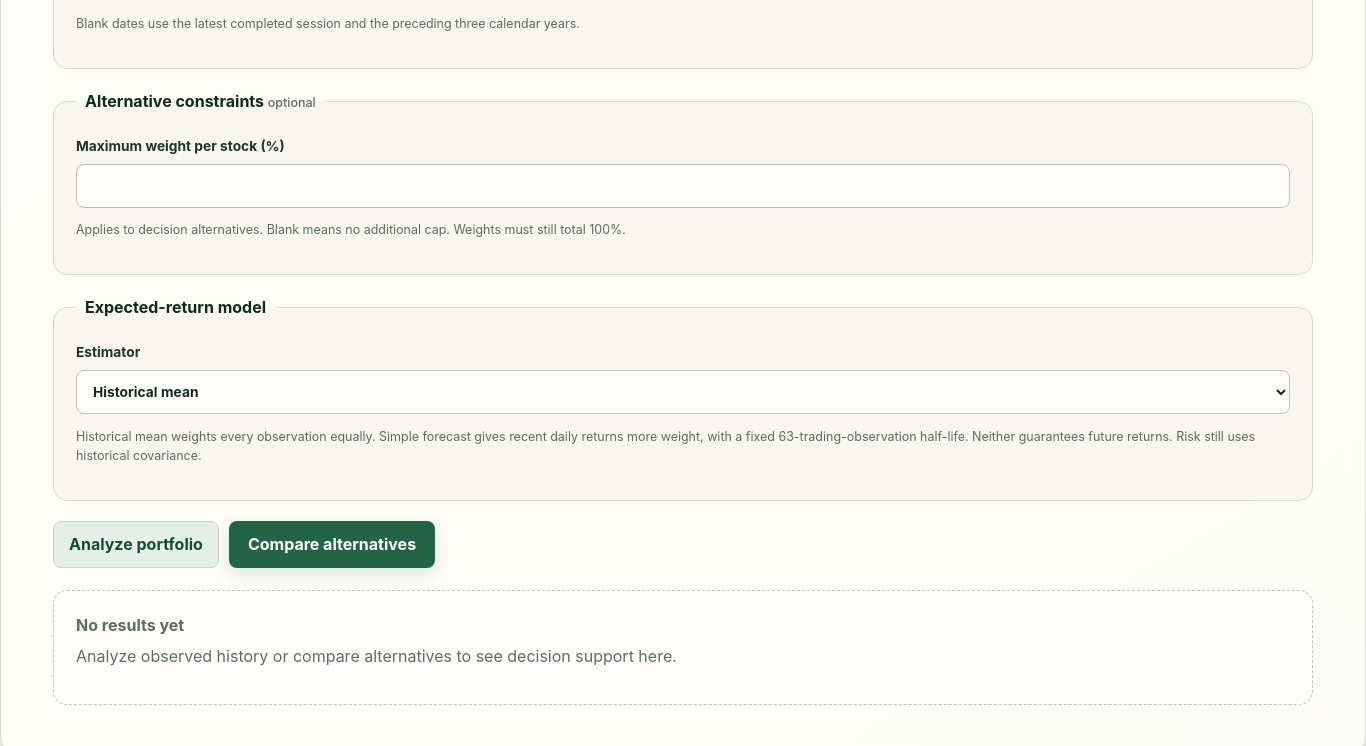
it: retains old provenance while stale and recalculates only on submission
(page scrolled)
Expected: the dropdown labelled "Estimator" shows "Historical mean", [76,370,1290,414]
Step 1. Click the button "Compare alternatives" → (332, 544), box [229,521,435,568]
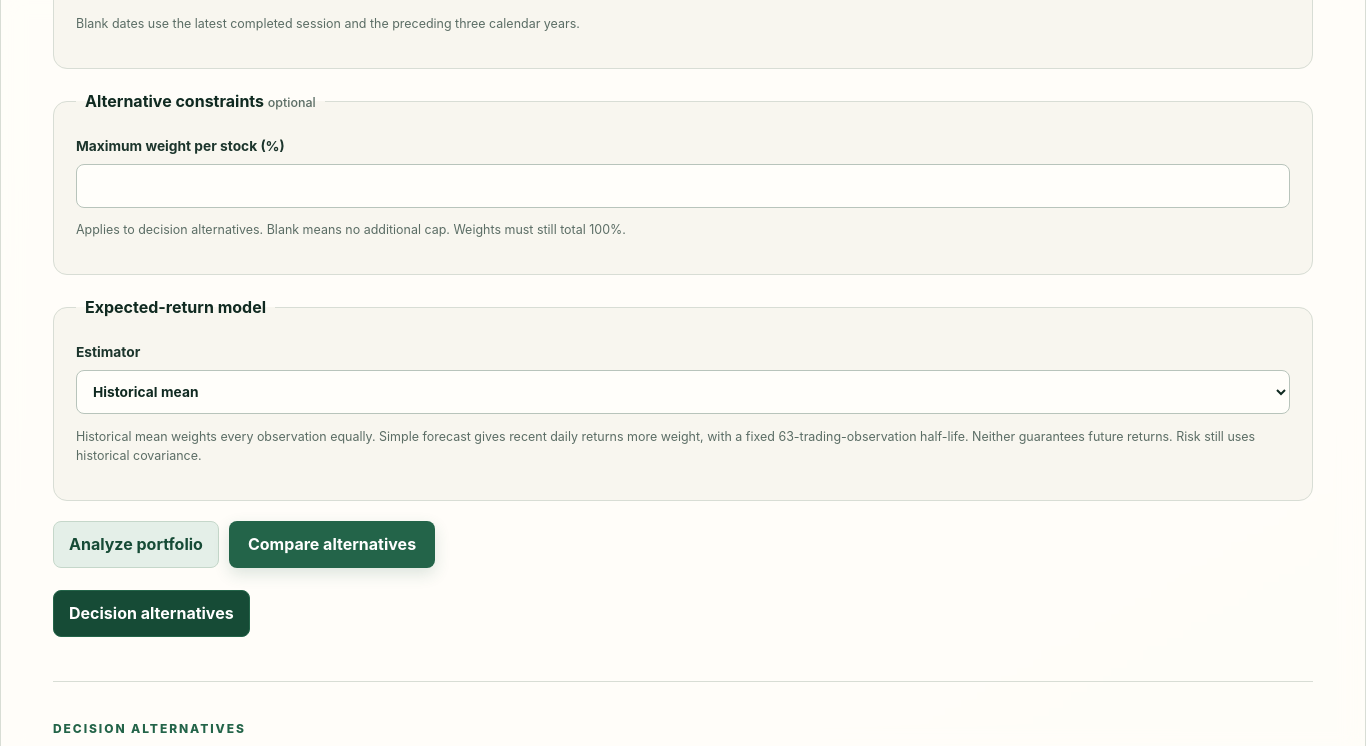
Step 2. Select "Simple forecast (recent returns weighted more)" in the dropdown labelled "Estimator" → (683, 392), box [76,370,1290,414]
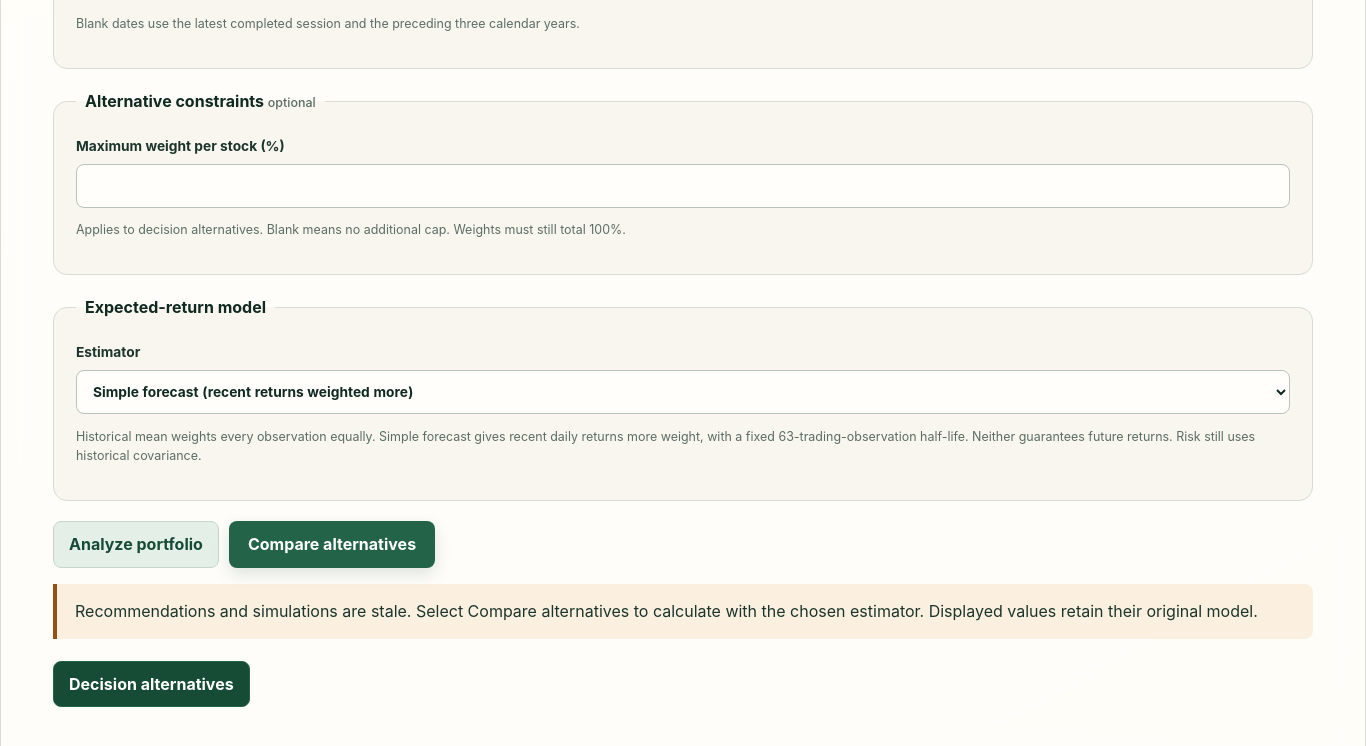
Expected: the text "Recommendations and simulations are stale" is shown, [75,601,1258,621]
Step 3. Click the button "Compare alternatives" → (332, 544), box [229,521,435,568]
(page scrolled)
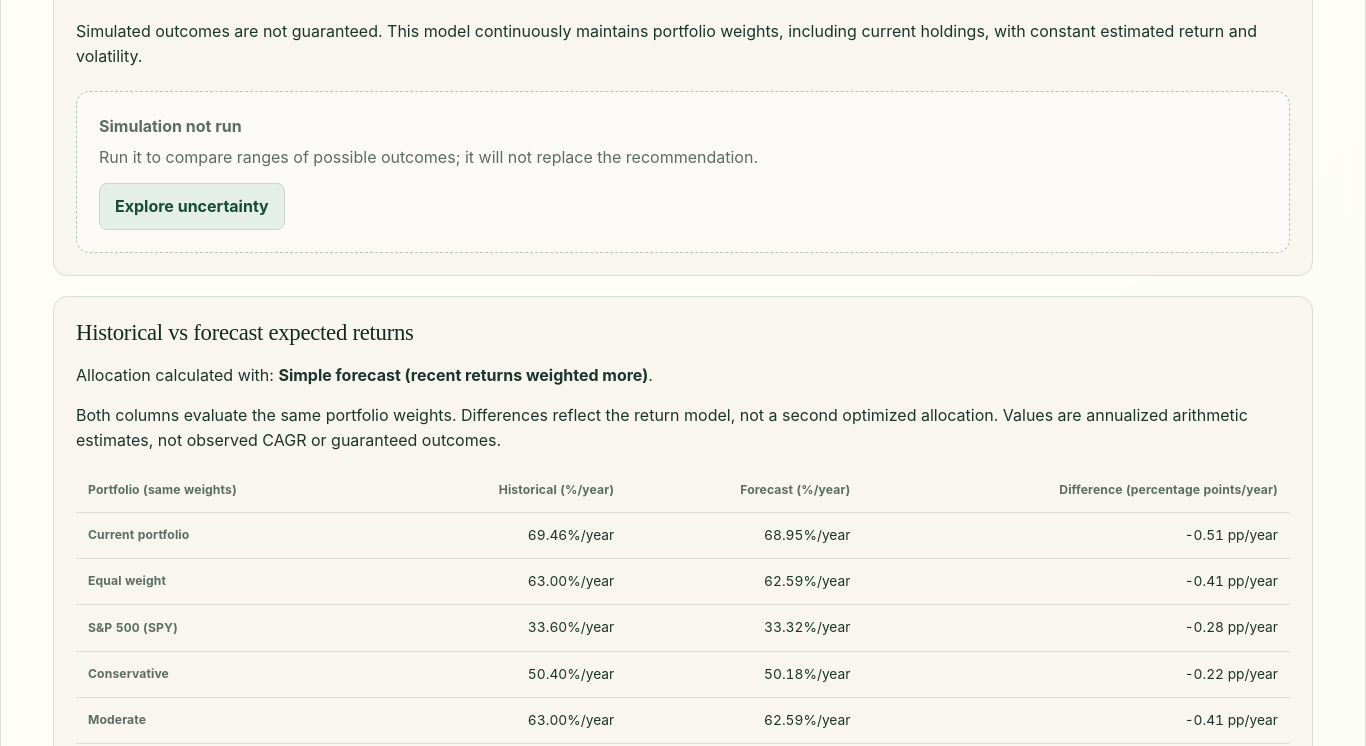
Expected: the text "Allocation calculated with" shows "Simple forecast", [278,364,648,384]
Expected: the text "Recommendations and simulations are stale" is gone
